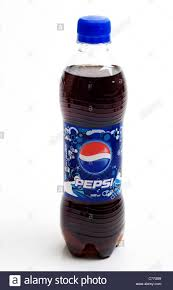pepsi_bottle: (59, 15, 125, 261)
